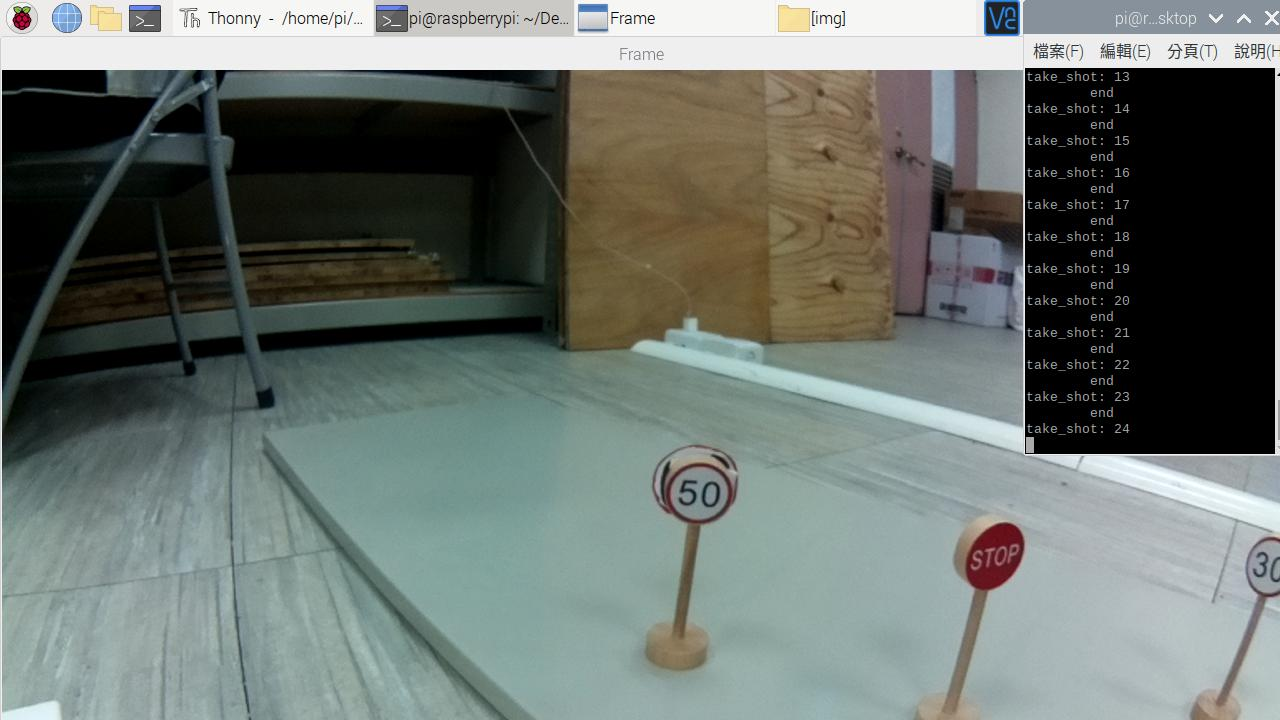Speed50: (668, 457, 735, 522)
Stop: (959, 514, 1025, 594)
